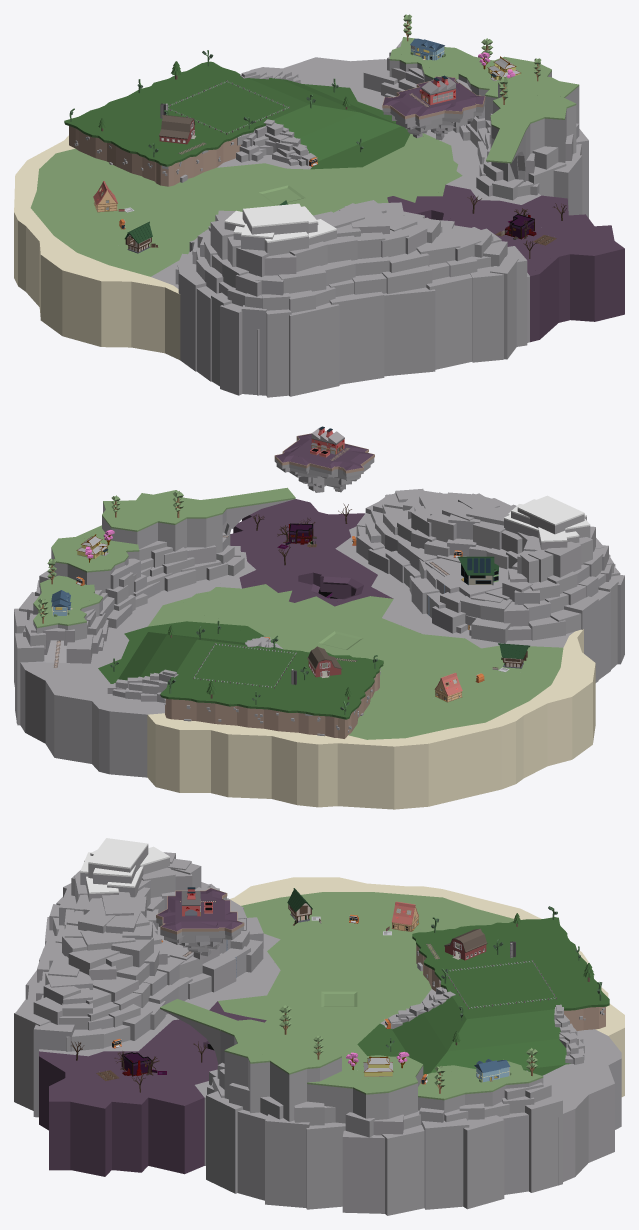
File: Exportigan.gltf
The picture shows the model from 3 angles, top to bottom: view 1: azimuth 30°, elevation 25°; view 2: azimuth 150°, elevation 25°; view 3: azimuth 270°, elevation 25°; orthographic projection. The views are drawn at different scales.
Visible parts, largest first — view 1: Rock (×38), Grass (×11), LushGrass (×8), Sand (×7), WasteGrass (×9), Snow; view 2: Sand (×17), Rock (×30), Grass (×11), LushGrass (×6), WasteGrass (×5), Snow; view 3: Rock (×42), Grass (×11), LushGrass (×8), WasteGrass (×14), Snow, Sand.
Part boxes in pixels (x1,y1,x2,y2): Rock (×38): (178, 64, 588, 397); Grass (×11): (31, 43, 563, 264); LushGrass (×8): (66, 62, 403, 164); Sand (×7): (18, 217, 180, 359); WasteGrass (×9): (426, 190, 624, 342); Snow: (242, 203, 308, 227); Sand (×17): (147, 660, 594, 809); Rock (×30): (15, 504, 624, 777); Grass (×11): (33, 487, 559, 737); LushGrass (×6): (118, 621, 383, 716); WasteGrass (×5): (230, 499, 377, 587); Snow: (517, 495, 584, 525); Rock (×42): (14, 867, 621, 1215); Grass (×11): (160, 897, 528, 1088); LushGrass (×8): (392, 917, 608, 1069); WasteGrass (×14): (39, 900, 224, 1176); Snow: (88, 838, 148, 869); Sand: (251, 886, 422, 891).
Size of what is drawn, in the model's own units: 1547 by 593 by 1476.
